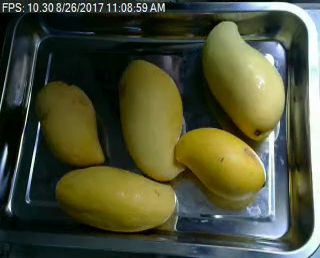Mango: (193, 16, 285, 138), (113, 54, 193, 179), (52, 162, 179, 234), (175, 124, 266, 201), (29, 80, 107, 165)
